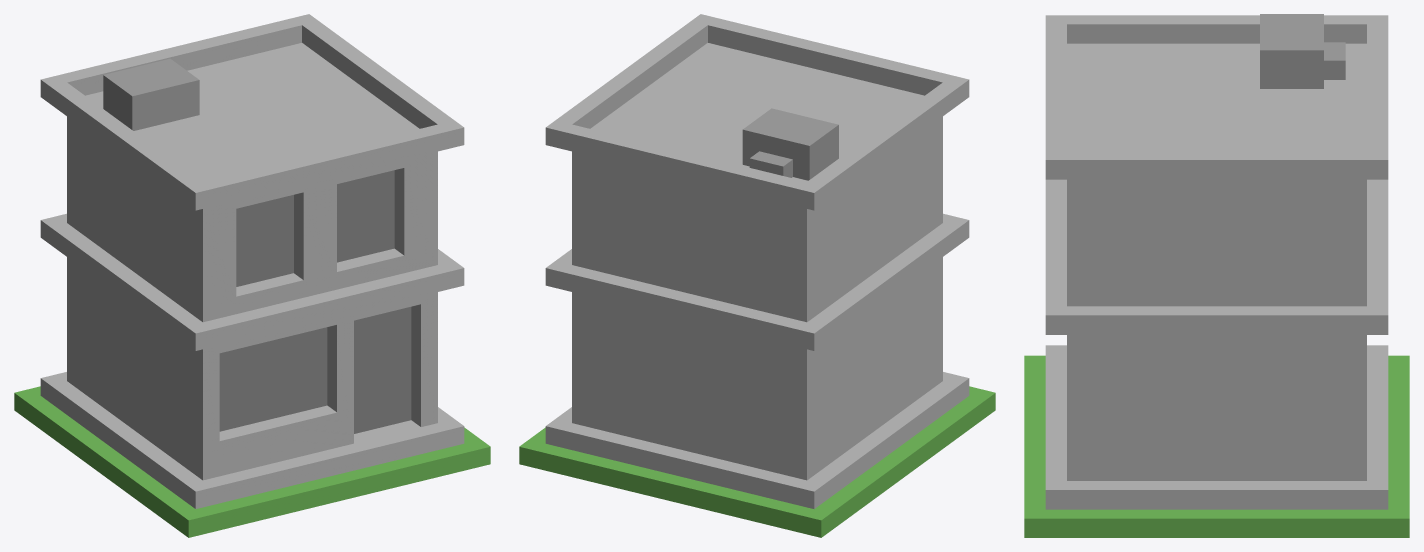
3 views of the same model, side by side, from view 1: azimuth 30°, elevation 25°; view 2: azimuth 150°, elevation 25°; view 3: azimuth 270°, elevation 25° (orthographic). The views are drawn at different scales.
Parts seen in each view (by area): view 1: 8; view 2: 8; view 3: 8.
Boxes of the visible parts, x1=… form: 8: x1=14, y1=14, x2=490, y2=537; 8: x1=519, y1=14, x2=995, y2=537; 8: x1=1024, y1=14, x2=1409, y2=537.
Bounding box in the file's own units: 450 × 500 × 450.
